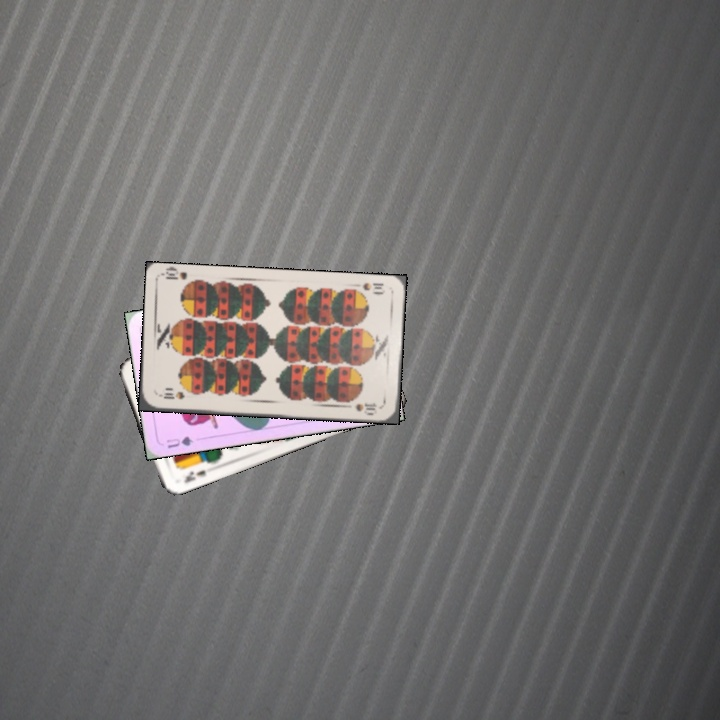EK: (179, 466, 208, 485)
GU: (162, 432, 196, 451)
S10: (349, 279, 388, 297), (155, 388, 187, 402)
